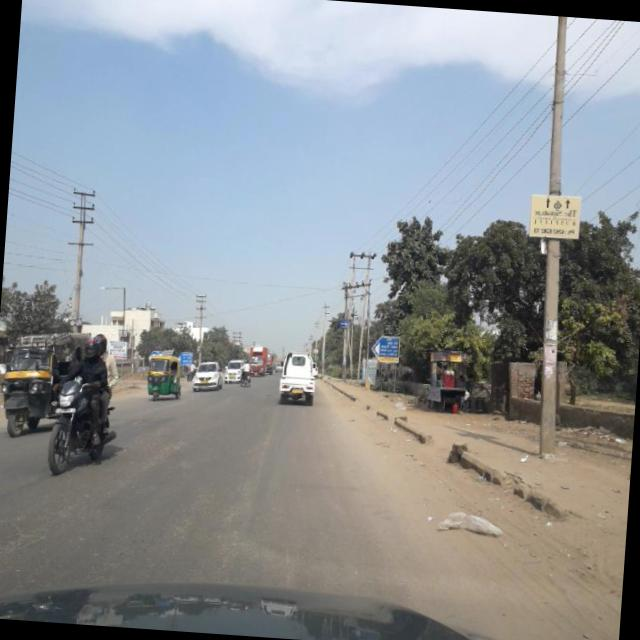crack: (0, 516, 44, 581)
